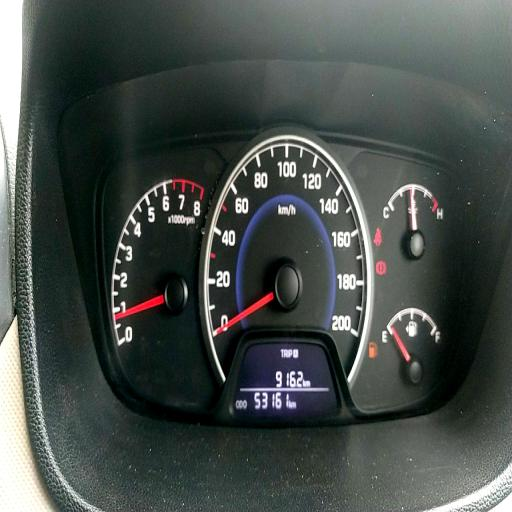belt: (374, 224, 382, 248)
brake_system_fault: (376, 260, 386, 276)
tachometer: (111, 174, 205, 376)
